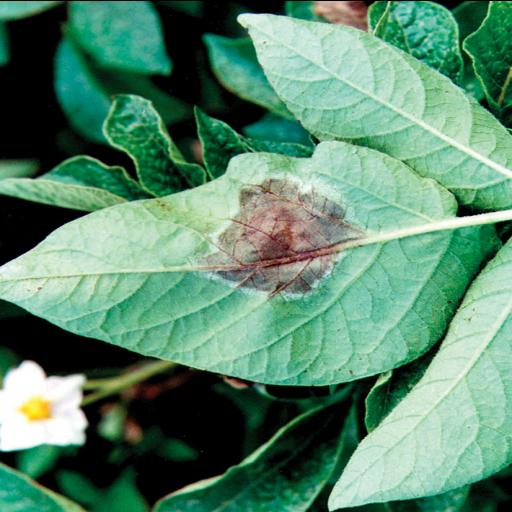Late Blight: (0, 143, 496, 391)
